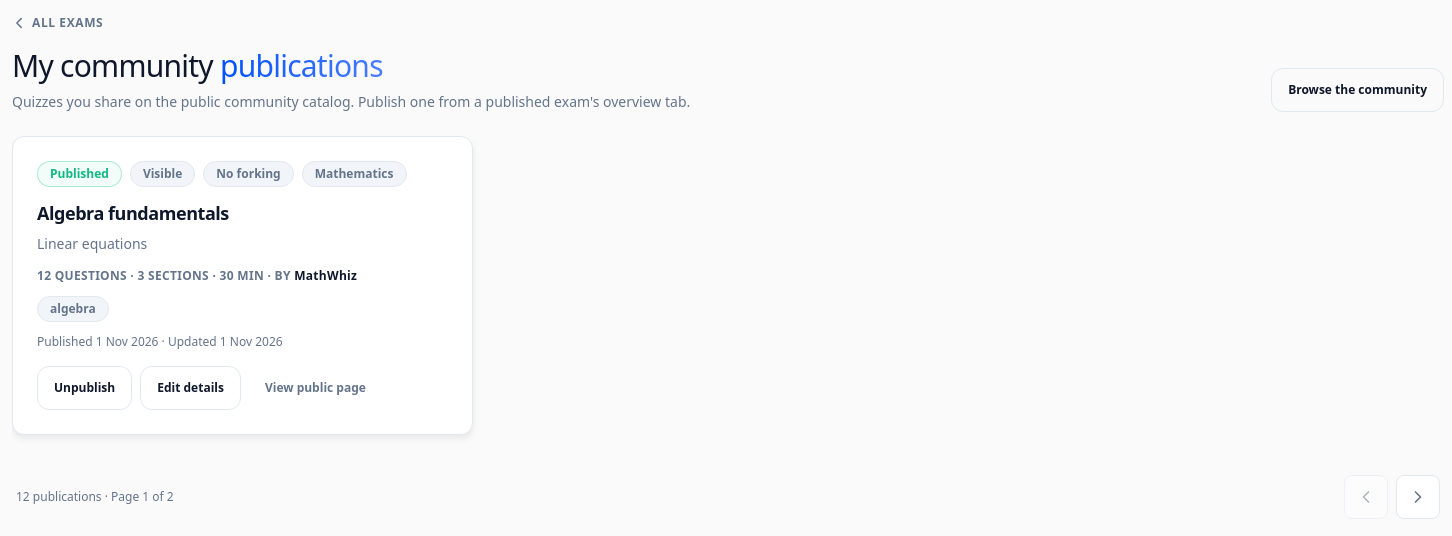
Test case: /community/mine › consumes the paged envelope with aria-live pagination controls
Expected: the link "Algebra fundamentals" is shown, [37, 201, 229, 225]
Click the button named "Next page" at (1418, 497), box [1396, 475, 1440, 519]
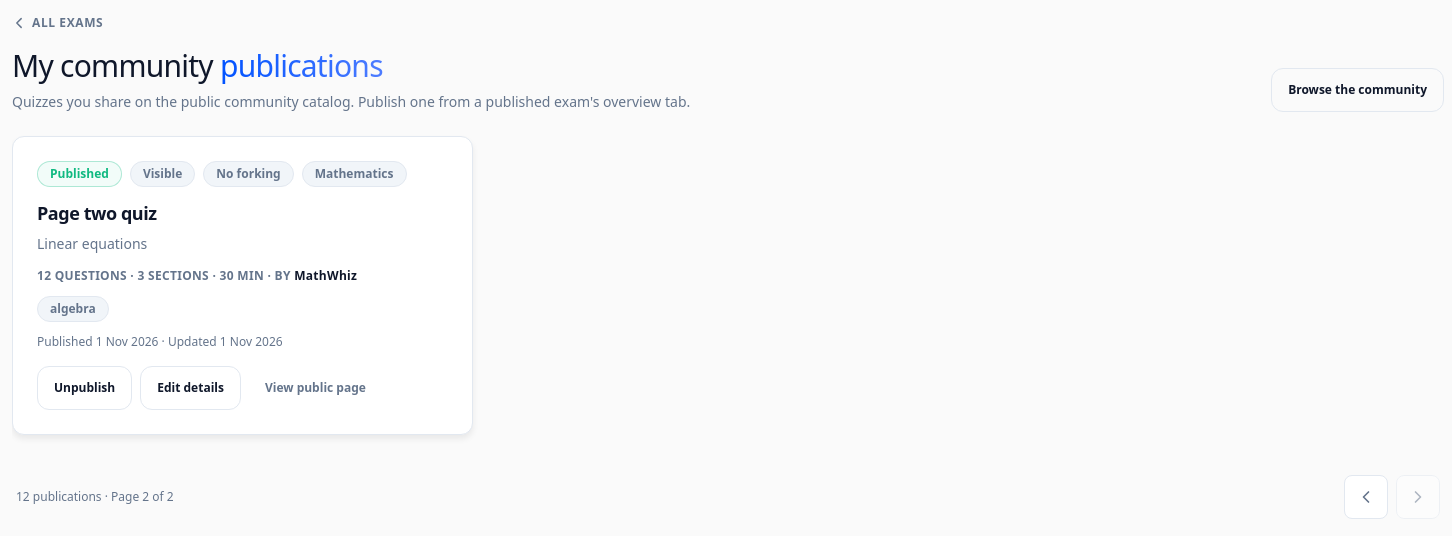
Expected: the link "Page two quiz" is shown, [37, 201, 157, 225]
Expected: the text "12 publications · Page 2 of 2" is shown, [16, 489, 174, 505]
